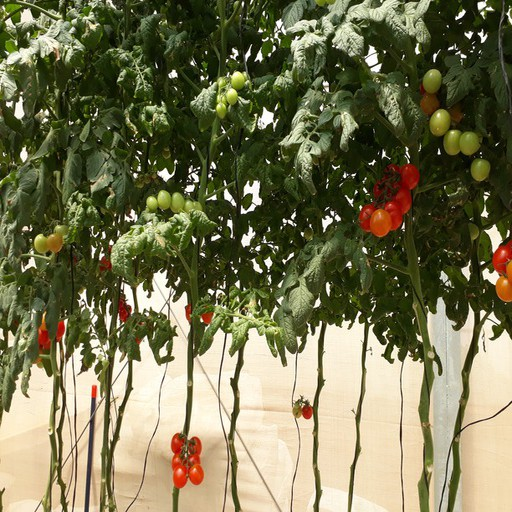green tomato bunch: (420, 69, 491, 182), (146, 187, 203, 219), (216, 71, 245, 118), (35, 223, 67, 254), (129, 171, 157, 189)
red tomato bunch: (359, 162, 419, 236), (171, 433, 203, 487), (111, 298, 145, 343), (492, 238, 512, 305), (36, 317, 66, 348), (181, 301, 217, 323), (93, 245, 114, 274)
